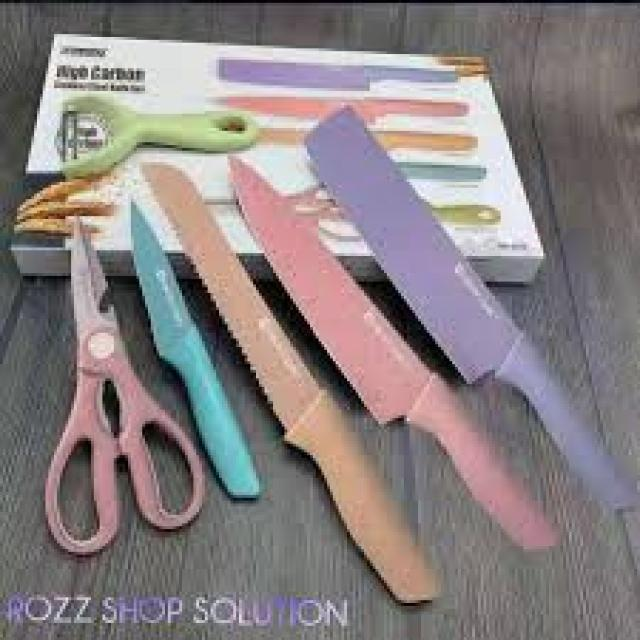Knife: (210, 114, 620, 617)
